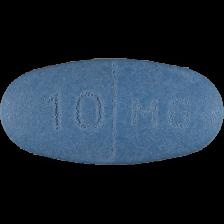13668-014: (0, 0, 224, 224)
